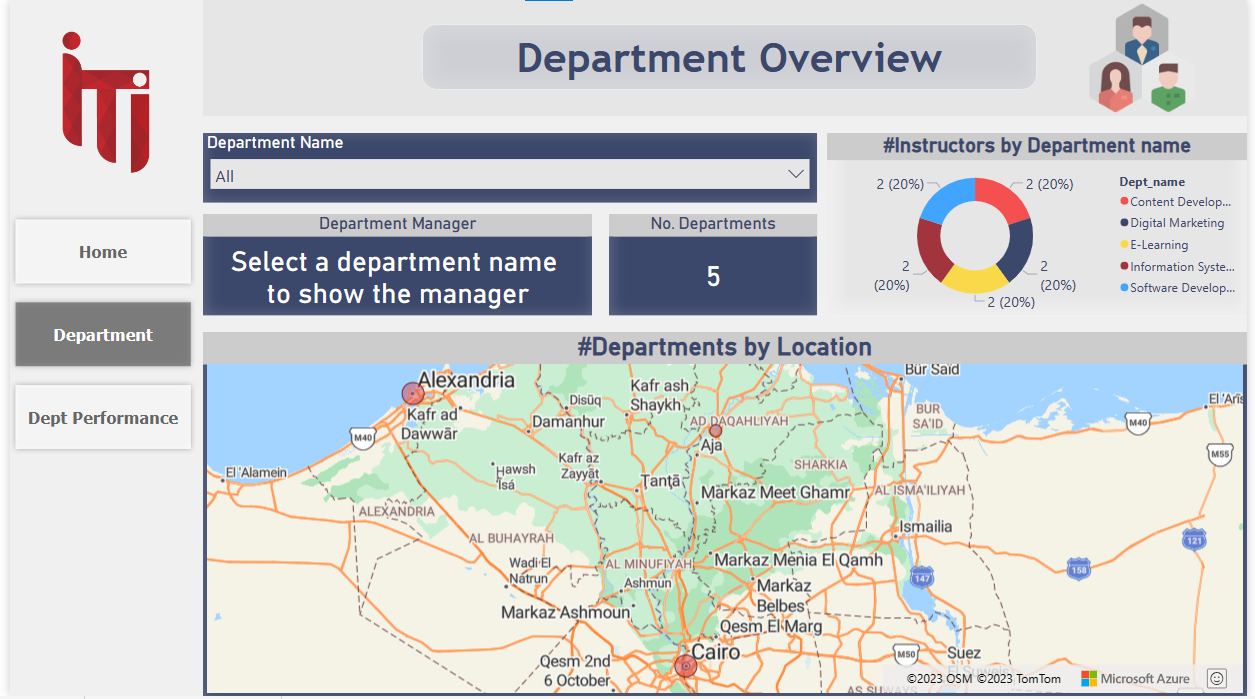

The dashboard page shown, as its layout file describes it:
{"tool":"powerbi","page":{"name":"Department","canvas":[1600,900],"ordinal":10},"visuals":[{"type":"card","title":"No. Departments","fields":{"Values":["DAX.#Departments"]},"box":[774.4,276.6,269.3,131.1],"z":0},{"type":"azureMap","title":"#Departments by Location","fields":{"Category":["Department.Dept_location"],"Size":["CountNonNull(Department.Dept_id)"]},"box":[250,429,1350,473],"z":1000},{"type":"donutChart","title":"#Instructors by Department name","fields":{"Y":["DAX.#Instructors"],"Series":["Department.Dept_name"]},"box":[1056.1,172.1,543.9,235.6],"z":2000},{"type":"slicer","title":"Department Name","fields":{"Values":["Department.Dept_name","Department.Dept_id"]},"box":[250,172.1,793.7,90.4],"z":3000},{"type":"card","title":"Department Manager","fields":{"Values":["DAX.Manager Name"]},"box":[250,276.6,503.1,131.1],"z":4000},{"type":"shape","box":[250,0,1350,150],"z":5000},{"type":"textbox","box":[533.3,31.7,795,85],"z":6000},{"type":"image","box":[1385,0,156.7,150],"z":7000},{"type":"image","box":[10,10,231.7,218.3],"z":8000},{"type":"pageNavigator","box":[0,276.7,241.7,313.3],"z":9000}]}

Visuals, with their boxes on the page's 1600x900 design canvas (x1, y1, x2, y2). These are canvas units, not pixel positions in the 1255x699 screenshot, which may show the page scaled, cropped or inside an application window:
"No. Departments" card: 774 277 1044 408
"#Departments by Location" azureMap: 250 429 1600 902
"#Instructors by Department name" donutChart: 1056 172 1600 408
"Department Name" slicer: 250 172 1044 262
"Department Manager" card: 250 277 753 408
shape: 250 0 1600 150
textbox: 533 32 1328 117
image: 1385 0 1542 150
image: 10 10 242 228
pageNavigator: 0 277 242 590
